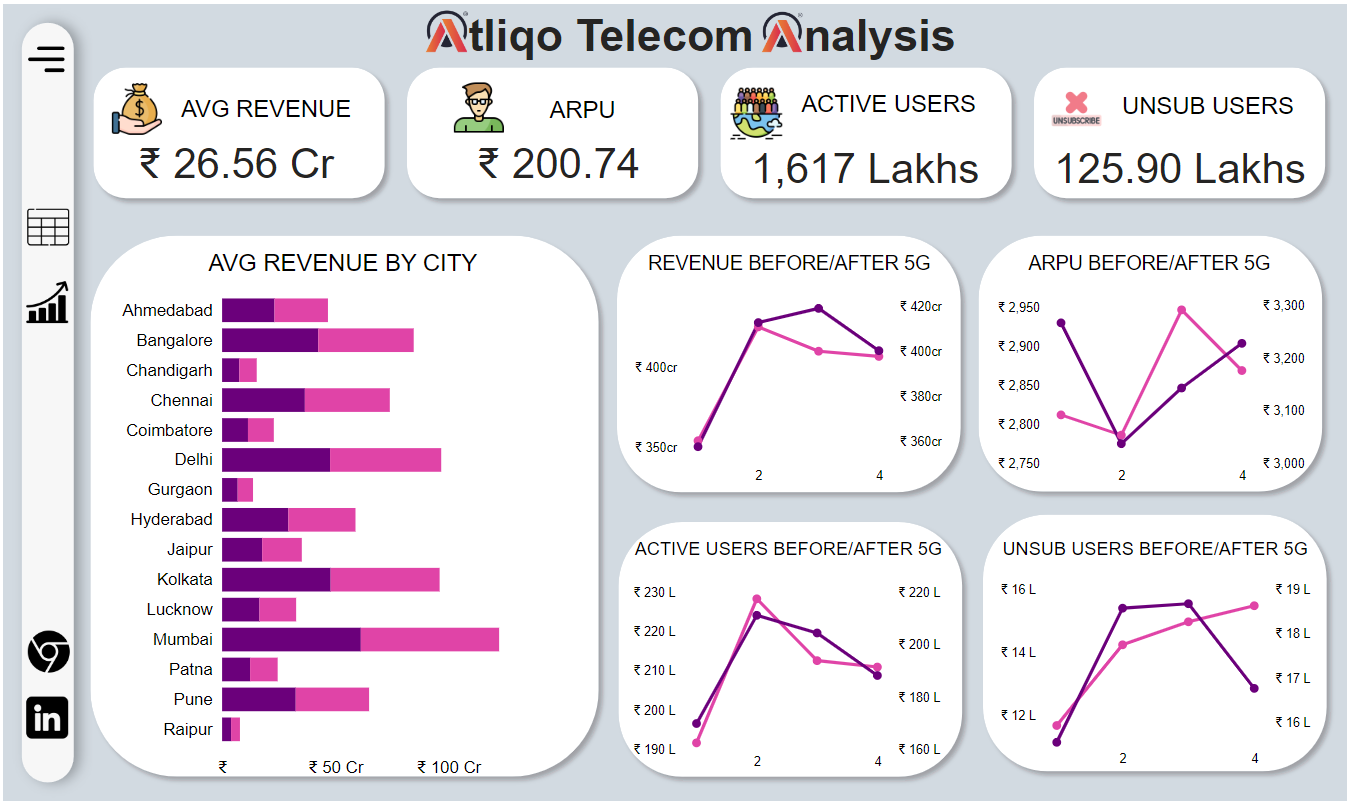

This screenshot's page, from the dashboard's own definition file:
{"tool":"powerbi","page":{"name":"Home","canvas":[1280,760],"ordinal":0},"visuals":[{"type":"shape","title":"Menu Bar","box":[0,0,85.4,759.5],"z":0,"group":"g3"},{"type":"textbox","box":[402,0,547.6,72.8],"z":0,"group":"g8"},{"type":"group","id":"g1","title":"Top Values BG","box":[77.2,52.1,1191.2,142.9],"z":0},{"type":"actionButton","box":[77.2,52.1,295.4,142.9],"z":0,"group":"g1"},{"type":"actionButton","box":[737.5,69.5,212.4,52.1],"z":0,"group":"g9"},{"type":"actionButton","box":[143.9,75.5,212.4,51.6],"z":0,"group":"g12"},{"type":"card","fields":{"Values":["measures (2).Average Revenue Per User"]},"box":[417,121.6,224,59.8],"z":0,"group":"g11"},{"type":"card","fields":{"Values":["measures (2).Monthly Unsub users"]},"box":[984.8,124.7,262,60],"z":0,"group":"g10"},{"type":"group","id":"g2","title":"Line chart bg","box":[575.3,211,694.2,532.9],"z":0,"group":"g7"},{"type":"actionButton","box":[74.2,211.5,501.9,533.5],"z":0,"group":"g5"},{"type":"actionButton","box":[603,221,288.8,52.1],"z":0,"group":"g4"},{"type":"actionButton","box":[577.2,483.2,345.6,260.6],"z":0,"group":"g2"},{"type":"lineChart","fields":{"Category":["dim_date.time_period"],"Y2":["measures (2).Unsubscribed users After 5G"],"Y":["measures (2).Unsubscribed users Before 5G"]},"box":[943.9,543,306.2,192.6],"z":0,"group":"g6"},{"type":"group","id":"g3","title":"Menu STuff","box":[0,0,85.4,759.5],"z":1000},{"type":"image","box":[397.4,0,51.6,51.6],"z":1000,"group":"g8"},{"type":"image","title":"Menu","box":[9,30,65,45],"z":1000,"group":"g3"},{"type":"actionButton","box":[375.8,52.1,295.4,142.9],"z":1000,"group":"g1"},{"type":"actionButton","box":[1054.2,72.8,186.6,51.6],"z":1000,"group":"g10"},{"type":"actionButton","box":[446,75.3,212.4,52.1],"z":1000,"group":"g11"},{"type":"card","fields":{"Values":["measures (2).Avg Revenue"]},"box":[110,121,224,59.8],"z":1000,"group":"g12"},{"type":"card","fields":{"Values":["measures (2).Monthly active users"]},"box":[691.3,124.7,247.8,60],"z":1000,"group":"g9"},{"type":"actionButton","box":[91.6,219.4,464,52.1],"z":1000,"group":"g5"},{"type":"group","id":"g4","title":"Line chart title","box":[595.1,221,653.4,323.6],"z":1000,"group":"g7"},{"type":"actionButton","box":[969.2,221,243.1,52.1],"z":1000,"group":"g4"},{"type":"lineChart","fields":{"Category":["dim_date.time_period"],"Y":["measures (2).Revenue Before 5G"],"Y2":["measures (2).Revenue After 5G"]},"box":[595.1,271.5,304.6,194.1],"z":1000,"group":"g6"},{"type":"actionButton","box":[923.9,477.4,345.6,262.6],"z":1000,"group":"g2"},{"type":"image","box":[717.9,0,50.2,52.1],"z":2000,"group":"g8"},{"type":"actionButton","box":[674.4,52.1,295.4,142.9],"z":2000,"group":"g1"},{"type":"image","box":[418.9,69.5,69.5,59.8],"z":2000,"group":"g11"},{"type":"image","box":[92.6,70.8,69.5,59.8],"z":2000,"group":"g12"},{"type":"image","box":[988,71,71,60],"z":2000,"group":"g10"},{"type":"image","box":[683.4,75.3,69.5,59.8],"z":2000,"group":"g9"},{"type":"actionButton","box":[575.3,211,345.6,262.6],"z":2000,"group":"g2"},{"type":"group","id":"g5","title":"Revenue by City","box":[74.2,211.5,501.9,533.5],"z":2000},{"type":"barChart","fields":{"Y":["measures (2).Avg Revenue"],"Category":["dim_cities.city_name"],"Series":["dim_date.before/after_5g"]},"box":[101,255.7,445.1,489.3],"z":2000,"group":"g5"},{"type":"group","id":"g6","title":"Line charts","box":[593.5,271.5,656.6,467.2],"z":2000,"group":"g7"},{"type":"actionButton","box":[595.1,492.5,304.6,52.1],"z":2000,"group":"g4"},{"type":"lineChart","fields":{"Category":["dim_date.time_period"],"Y":["measures (2).Active Users Before 5G"],"Y2":["measures (2).Active Users After 5G"]},"box":[593.5,546.1,304.6,192.6],"z":2000,"group":"g6"},{"type":"actionButton","box":[973,52.1,295.4,142.9],"z":3000,"group":"g1"},{"type":"group","id":"g7","title":"Trends","box":[575.3,211,694.2,532.9],"z":3000},{"type":"actionButton","box":[920.1,211,345.6,262],"z":3000,"group":"g2"},{"type":"lineChart","fields":{"Category":["dim_date.time_period"],"Y":["measures (2).ARPU Before 5G"],"Y2":["measures (2).ARPU After 5G"]},"box":[940.7,273.1,304.6,192.6],"z":3000,"group":"g6"},{"type":"actionButton","box":[945.5,492.5,303,52.1],"z":3000,"group":"g4"},{"type":"group","id":"g8","title":"Atliq Title","box":[397.4,0,552.2,72.8],"z":4000},{"type":"group","id":"g9","title":"Active Users","box":[683.4,69.5,266.4,115.2],"z":4000,"group":"g1"},{"type":"group","id":"g10","title":"Unsub users","box":[984.8,71,262,113.6],"z":5000,"group":"g1"},{"type":"group","id":"g11","title":"ARPU","box":[417,69.5,241.3,112],"z":6000,"group":"g1"},{"type":"group","id":"g12","title":"Avg Revenue","box":[92.6,70.8,263.7,110],"z":7000,"group":"g1"},{"type":"image","box":[15.2,186.6,54.6,50.1],"z":10000},{"type":"image","box":[12.1,257.9,60.7,50.1],"z":11000},{"type":"image","box":[12.1,653.8,60.7,50.1],"z":11002,"group":"g3"},{"type":"image","box":[13.7,591.6,59.2,50.1],"z":12000}]}

Visuals, with their boxes in screenshot pixels (x1, y1, x2, y2), scaled from the page's 1280x760 canvas onto the 1350x802 screenshot:
"Menu Bar" shape: bbox=(0, 0, 90, 801)
textbox: bbox=(424, 0, 1002, 77)
"Top Values BG" group: bbox=(81, 55, 1338, 206)
actionButton: bbox=(81, 55, 393, 206)
actionButton: bbox=(778, 73, 1002, 128)
actionButton: bbox=(152, 80, 376, 134)
card - measures (2).Average Revenue Per User: bbox=(440, 128, 676, 191)
card - measures (2).Monthly Unsub users: bbox=(1039, 132, 1315, 195)
"Line chart bg" group: bbox=(607, 223, 1339, 785)
actionButton: bbox=(78, 223, 608, 786)
actionButton: bbox=(636, 233, 941, 288)
actionButton: bbox=(609, 510, 973, 785)
lineChart - dim_date.time_period x measures (2).Unsubscribed users After 5G: bbox=(996, 573, 1318, 776)
"Menu STuff" group: bbox=(0, 0, 90, 801)
image: bbox=(419, 0, 474, 54)
"Menu" image: bbox=(9, 32, 78, 79)
actionButton: bbox=(396, 55, 708, 206)
actionButton: bbox=(1112, 77, 1309, 131)
actionButton: bbox=(470, 79, 694, 134)
card - measures (2).Avg Revenue: bbox=(116, 128, 352, 191)
card - measures (2).Monthly active users: bbox=(729, 132, 990, 195)
actionButton: bbox=(97, 232, 586, 287)
"Line chart title" group: bbox=(628, 233, 1317, 575)
actionButton: bbox=(1022, 233, 1279, 288)
lineChart - dim_date.time_period x measures (2).Revenue Before 5G: bbox=(628, 287, 949, 491)
actionButton: bbox=(974, 504, 1339, 781)
image: bbox=(757, 0, 810, 55)
actionButton: bbox=(711, 55, 1023, 206)
image: bbox=(442, 73, 515, 136)
image: bbox=(98, 75, 171, 138)
image: bbox=(1042, 75, 1117, 138)
image: bbox=(721, 79, 794, 143)
actionButton: bbox=(607, 223, 971, 500)
"Revenue by City" group: bbox=(78, 223, 608, 786)
barChart - measures (2).Avg Revenue x dim_cities.city_name: bbox=(107, 270, 576, 786)
"Line charts" group: bbox=(626, 287, 1318, 780)
actionButton: bbox=(628, 520, 949, 575)
lineChart - dim_date.time_period x measures (2).Active Users Before 5G: bbox=(626, 576, 947, 780)
actionButton: bbox=(1026, 55, 1338, 206)
"Trends" group: bbox=(607, 223, 1339, 785)
actionButton: bbox=(970, 223, 1335, 499)
lineChart - dim_date.time_period x measures (2).ARPU Before 5G: bbox=(992, 288, 1313, 491)
actionButton: bbox=(997, 520, 1317, 575)
"Atliq Title" group: bbox=(419, 0, 1002, 77)
"Active Users" group: bbox=(721, 73, 1002, 195)
"Unsub users" group: bbox=(1039, 75, 1315, 195)
"ARPU" group: bbox=(440, 73, 694, 192)
"Avg Revenue" group: bbox=(98, 75, 376, 191)
image: bbox=(16, 197, 74, 250)
image: bbox=(13, 272, 77, 325)
image: bbox=(13, 690, 77, 743)
image: bbox=(14, 624, 77, 677)
